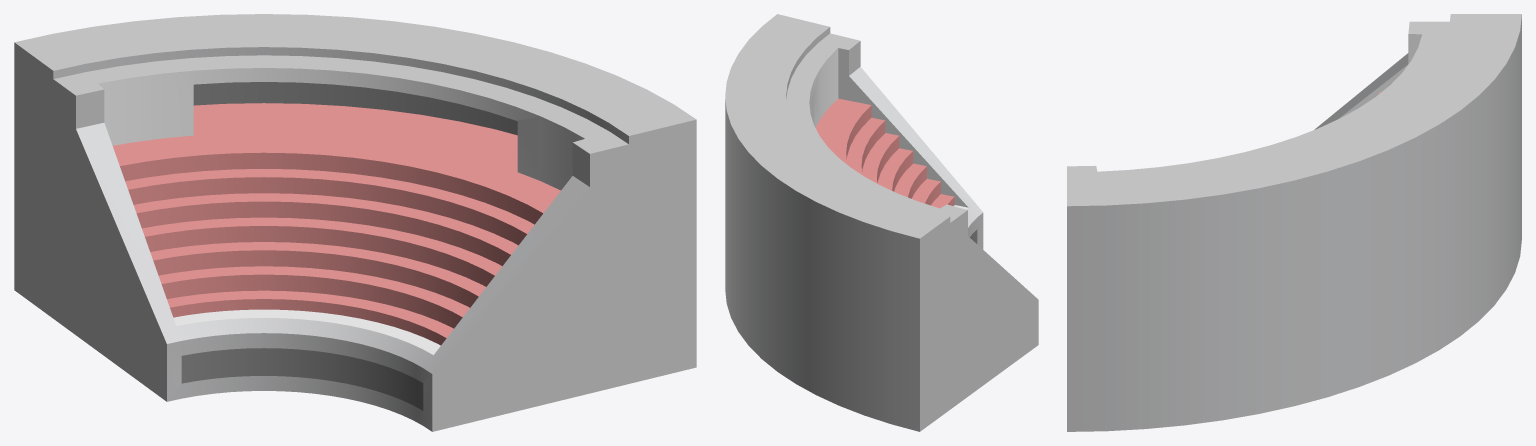
Rendered from grandStandRound.glb.
The picture shows the model from 3 angles, left to right: view 1: azimuth 30°, elevation 25°; view 2: azimuth 150°, elevation 25°; view 3: azimuth 270°, elevation 25°; orthographic projection. The views are drawn at different scales.
Parts seen in each view (by area): view 1: grandStandRound(Clone); view 2: grandStandRound(Clone); view 3: grandStandRound(Clone).
Part boxes in pixels (x1,y1,x2,y2): grandStandRound(Clone): [14, 14, 696, 431]; grandStandRound(Clone): [725, 14, 1038, 431]; grandStandRound(Clone): [1067, 14, 1521, 431].
Size of the model in its own units: 1.64 by 0.8963 by 1.64.
